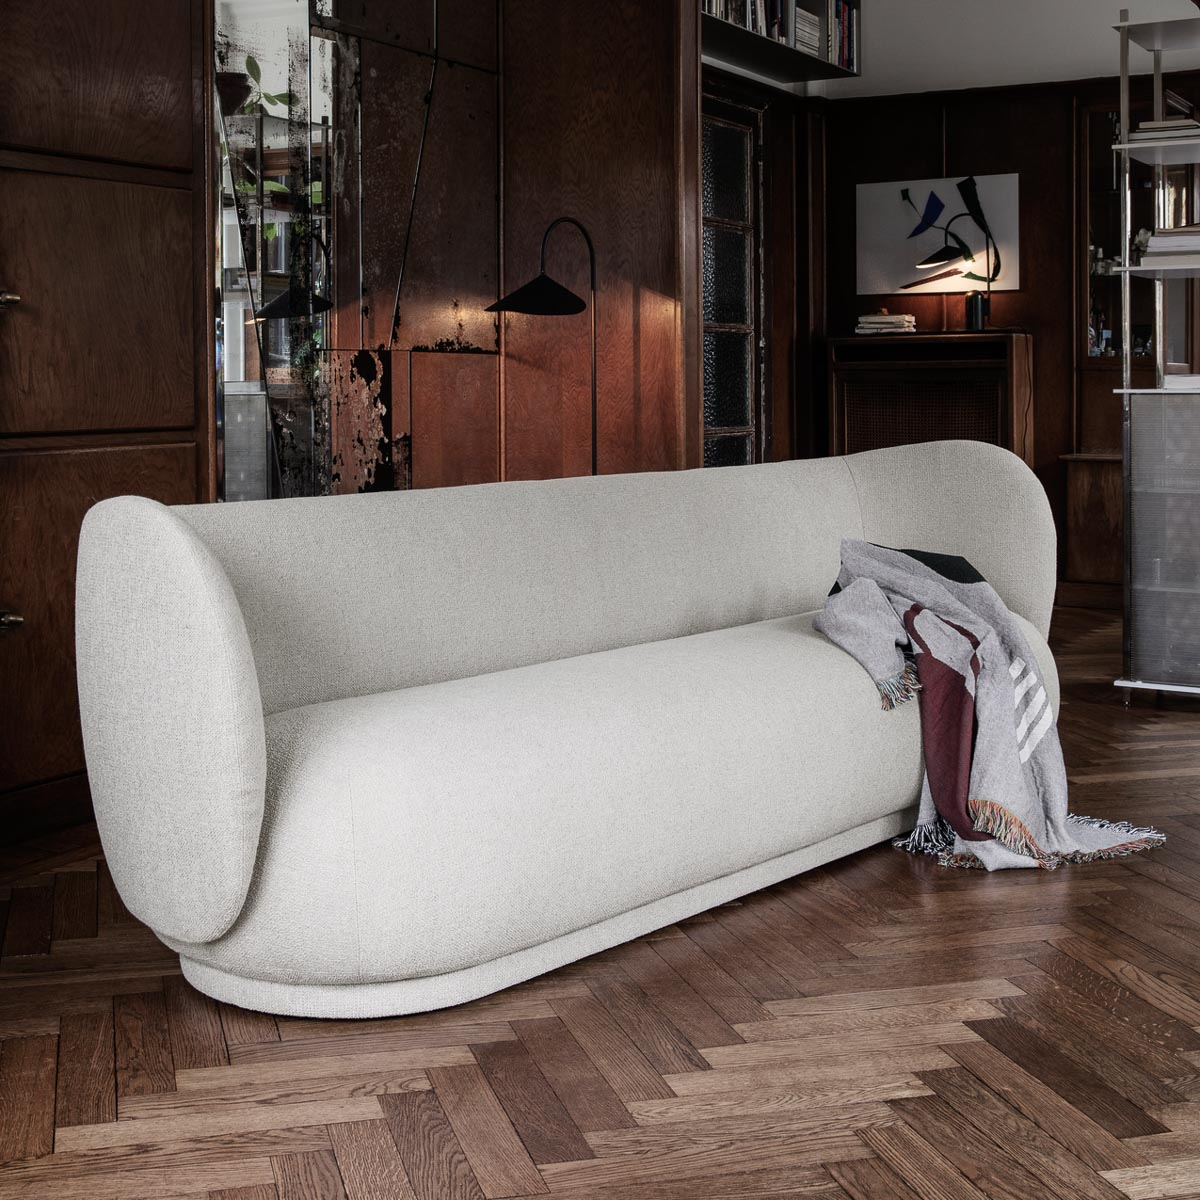sova: (62, 460, 1101, 991)
